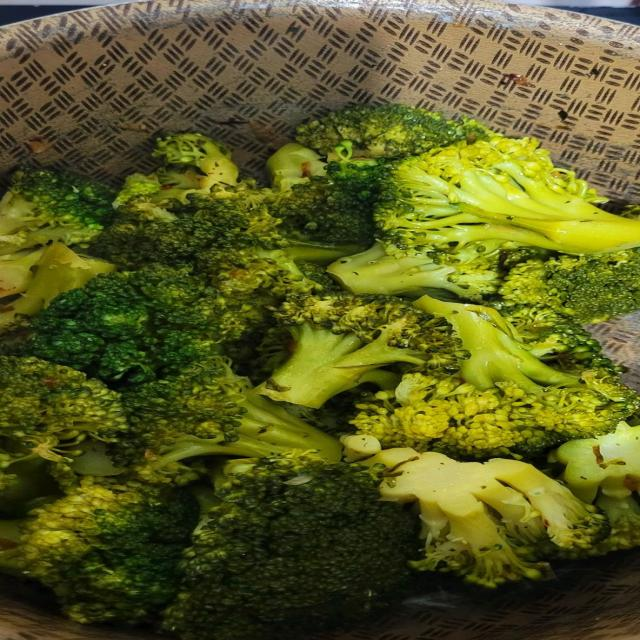broccoli: (329, 137, 639, 301), (163, 453, 419, 639), (352, 297, 638, 458), (362, 449, 609, 587), (375, 137, 639, 254), (0, 477, 199, 624), (123, 357, 341, 479), (22, 265, 242, 383), (257, 293, 465, 408), (0, 357, 128, 493), (91, 191, 286, 268), (328, 234, 538, 301), (266, 144, 384, 247), (550, 423, 639, 556), (113, 134, 239, 226), (296, 104, 490, 159), (495, 249, 639, 323), (0, 242, 115, 333), (0, 169, 114, 254), (490, 301, 621, 373), (153, 133, 239, 201), (266, 143, 326, 190), (0, 248, 45, 305)
